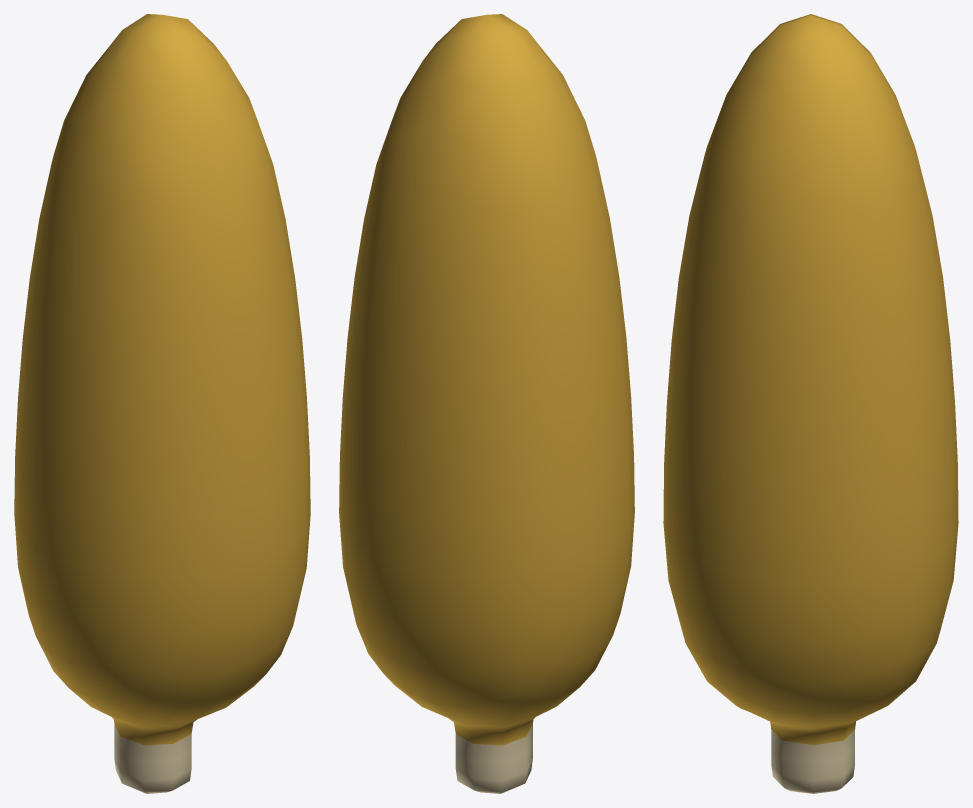
The model's file is Cornsimple_03.dae.
3 views of the same model, side by side, from view 1: azimuth 30°, elevation 25°; view 2: azimuth 150°, elevation 25°; view 3: azimuth 270°, elevation 25° (orthographic).
Visible parts, largest first — view 1: Cornsimple_03_LOD0; view 2: Cornsimple_03_LOD0; view 3: Cornsimple_03_LOD0.
Part boxes in pixels (box(x1,y1,x2,y2)): Cornsimple_03_LOD0: box(14, 14, 310, 793); Cornsimple_03_LOD0: box(339, 14, 634, 793); Cornsimple_03_LOD0: box(663, 14, 958, 793).
Size of what is drawn, in the model's own units: 2.29 by 2.29 by 6.64.
